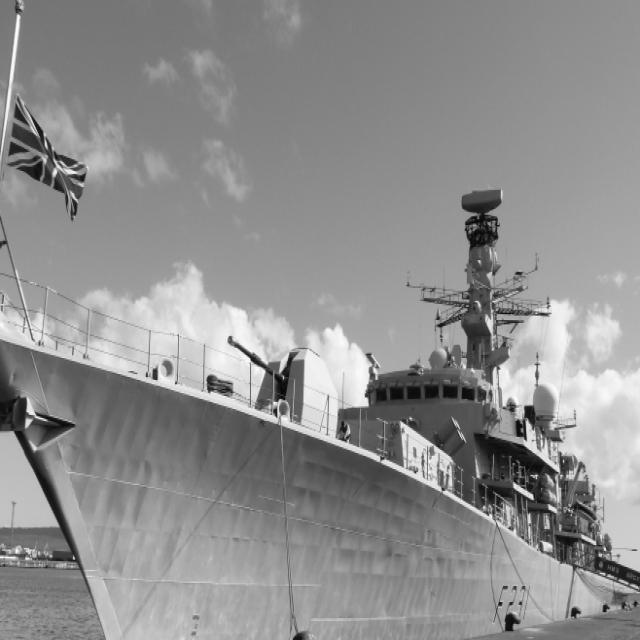Fragata: (1, 185, 640, 640)
